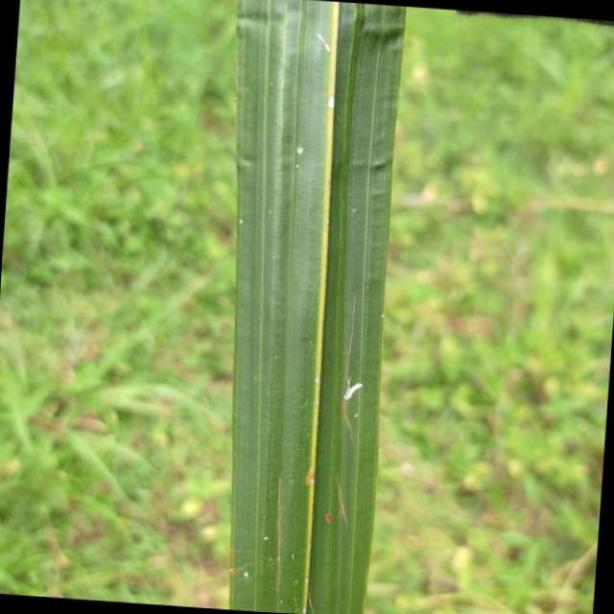Boron: (227, 0, 412, 604)
